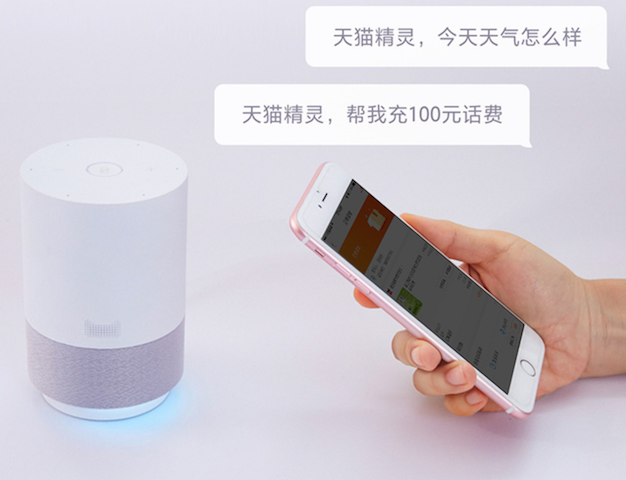audio: (10, 132, 202, 449)
phone: (270, 155, 570, 433)
